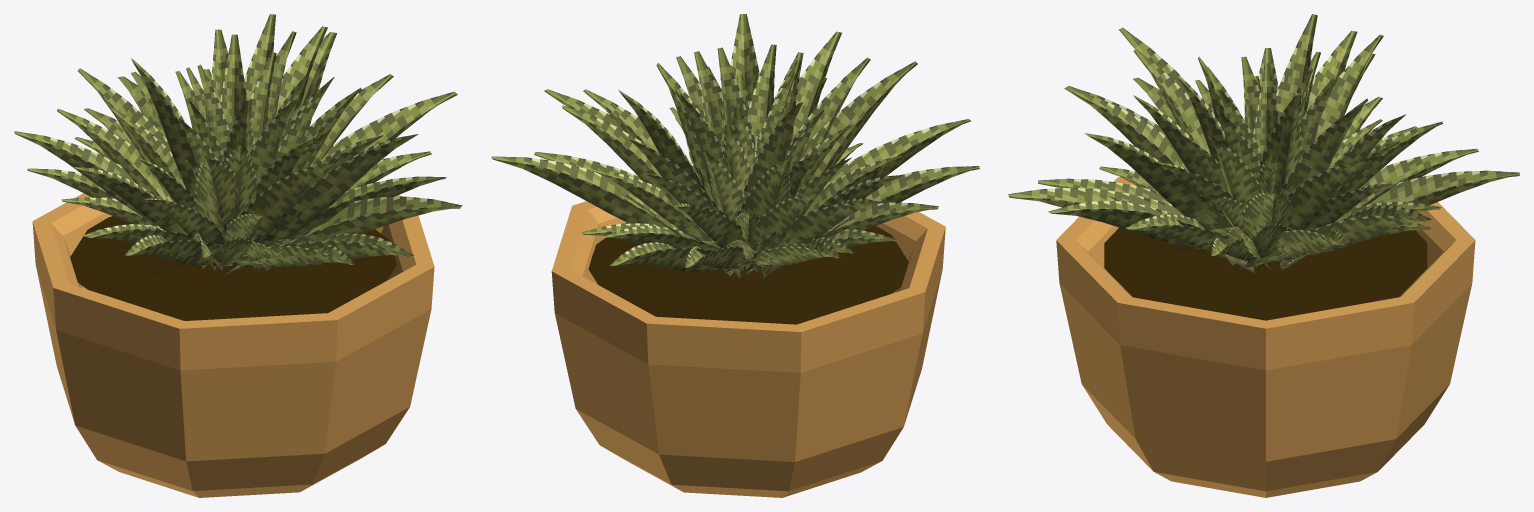
The model's file is plant_haworthia.gltf.
3 renders of one model, left to right at view 1: azimuth 30°, elevation 25°; view 2: azimuth 150°, elevation 25°; view 3: azimuth 270°, elevation 25°, orthographic. The views are drawn at different scales.
Parts seen in each view (by area): view 1: Pot, Soil, Leaf_033, Leaf_017, Leaf_032, Leaf_030, Leaf_026, Leaf_051, Leaf_000, Leaf_018, Leaf_027, Leaf_016 (+34 smaller); view 2: Pot, Soil, Leaf_002, Leaf_030, Leaf_013, Leaf_021, Leaf_027, Leaf_022, Leaf_012, Leaf_005, Leaf_032, Leaf_040 (+32 smaller); view 3: Pot, Soil, Leaf_033, Leaf_005, Leaf_002, Leaf_032, Leaf_017, Leaf_021, Leaf_016, Leaf_048, Leaf_037, Leaf_044 (+26 smaller).
Part boxes in pixels (x1=…): Pot: x1=32, y1=193, x2=434, y2=497; Soil: x1=70, y1=216, x2=396, y2=320; Leaf_033: x1=226, y1=134, x2=418, y2=272; Leaf_017: x1=224, y1=196, x2=462, y2=275; Leaf_032: x1=216, y1=163, x2=335, y2=244; Leaf_030: x1=193, y1=159, x2=253, y2=235; Leaf_026: x1=57, y1=109, x2=215, y2=270; Leaf_051: x1=131, y1=58, x2=227, y2=266; Leaf_000: x1=262, y1=91, x2=457, y2=270; Leaf_018: x1=265, y1=176, x2=446, y2=246; Leaf_027: x1=14, y1=131, x2=221, y2=269; Leaf_016: x1=211, y1=233, x2=413, y2=267; Pot: x1=551, y1=201, x2=945, y2=497; Soil: x1=588, y1=222, x2=908, y2=324; Leaf_002: x1=491, y1=156, x2=741, y2=277; Leaf_030: x1=761, y1=61, x2=917, y2=275; Leaf_013: x1=770, y1=119, x2=970, y2=271; Leaf_021: x1=562, y1=105, x2=740, y2=278; Leaf_027: x1=724, y1=198, x2=878, y2=272; Leaf_022: x1=593, y1=169, x2=745, y2=272; Leaf_012: x1=762, y1=166, x2=979, y2=278; Leaf_005: x1=610, y1=242, x2=775, y2=271; Leaf_032: x1=792, y1=31, x2=841, y2=138; Leaf_040: x1=720, y1=160, x2=790, y2=248; Pot: x1=1056, y1=177, x2=1475, y2=497; Soil: x1=1104, y1=227, x2=1427, y2=320; Leaf_033: x1=1084, y1=133, x2=1272, y2=270; Leaf_005: x1=1279, y1=170, x2=1519, y2=271; Leaf_002: x1=1237, y1=205, x2=1431, y2=270; Leaf_032: x1=1072, y1=89, x2=1256, y2=267; Leaf_017: x1=1048, y1=201, x2=1283, y2=263; Leaf_021: x1=1282, y1=161, x2=1367, y2=230; Leaf_016: x1=1008, y1=187, x2=1254, y2=272; Leaf_048: x1=1260, y1=95, x2=1301, y2=193; Leaf_037: x1=1247, y1=106, x2=1361, y2=263; Leaf_044: x1=1133, y1=49, x2=1210, y2=153.
Size of the model in its own units: 1.45 by 1.35 by 1.61.
3 materials, 3 textured.
